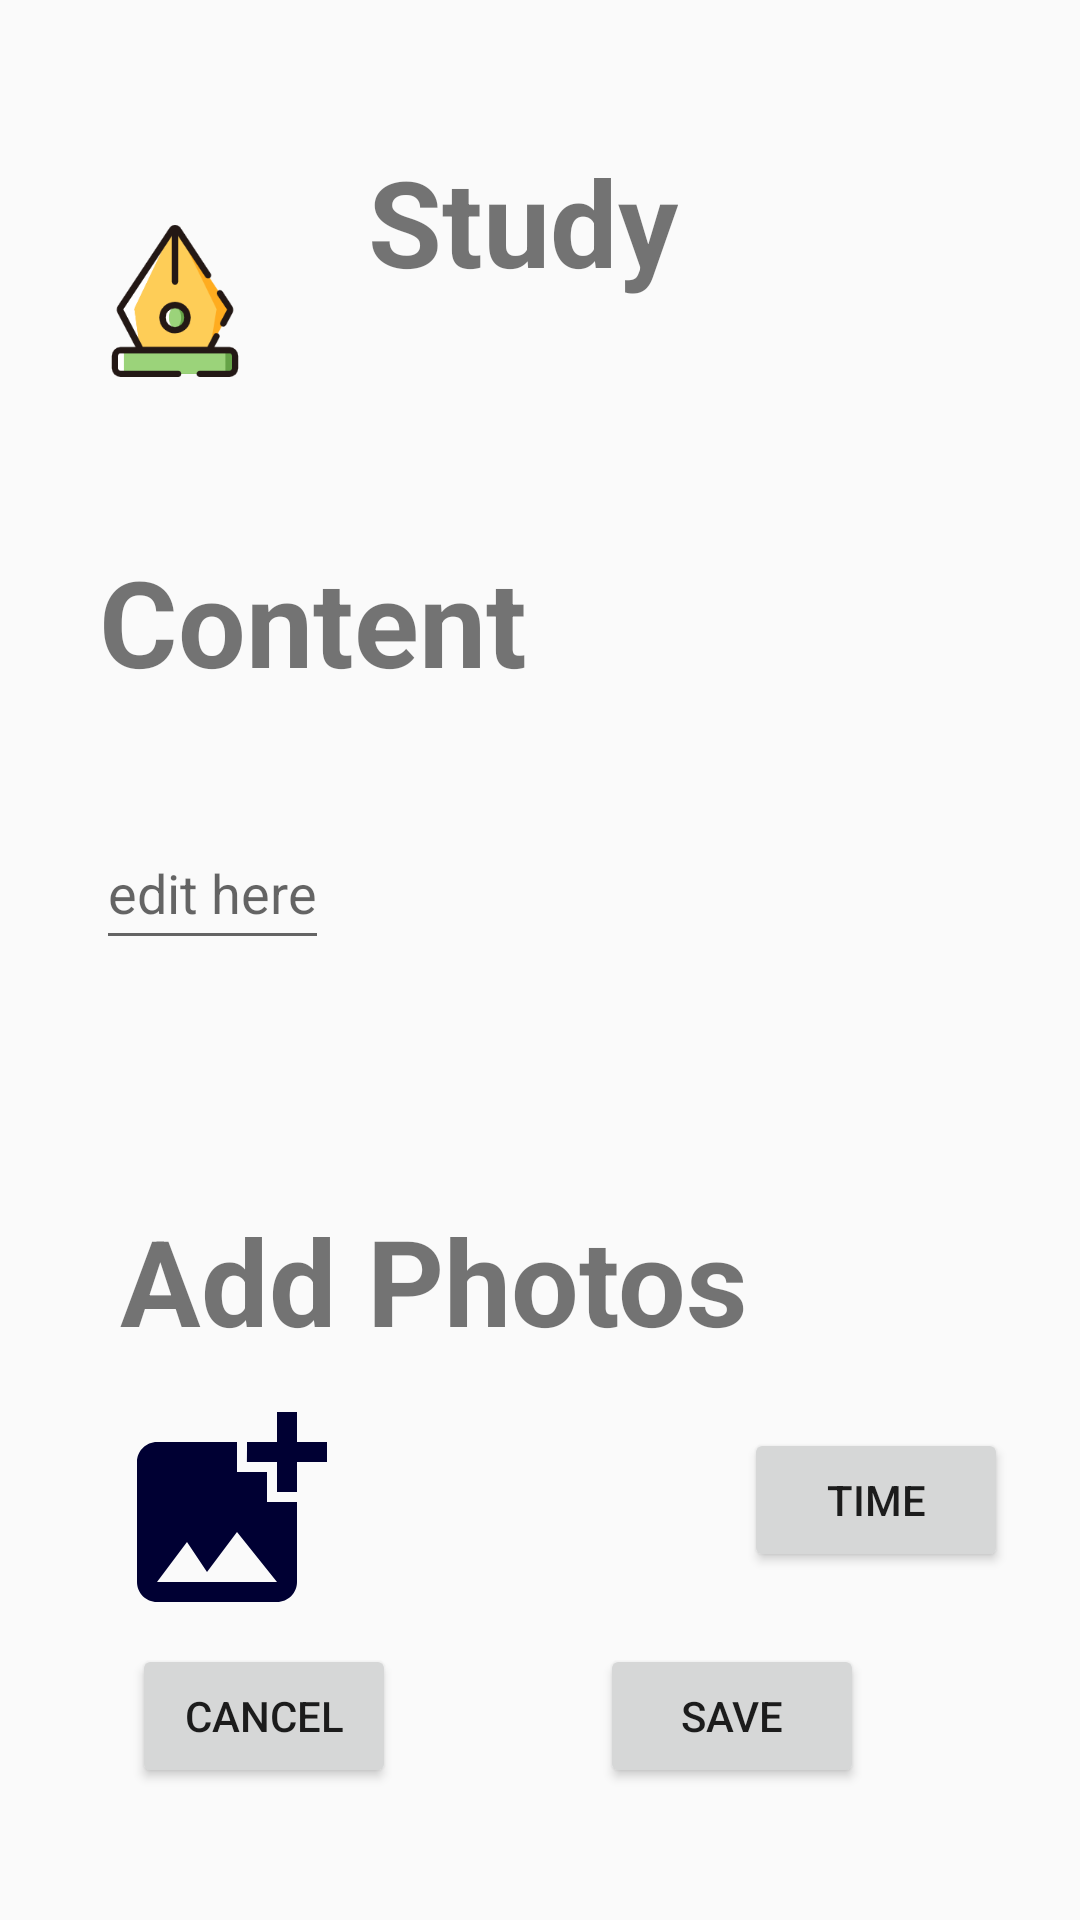

Locate icon controls on the screen. Image size 1080px×1920px, boxes as bbox=[x1, y1, x2, y2].
add photo alternate: bbox=[137, 1412, 327, 1602]
